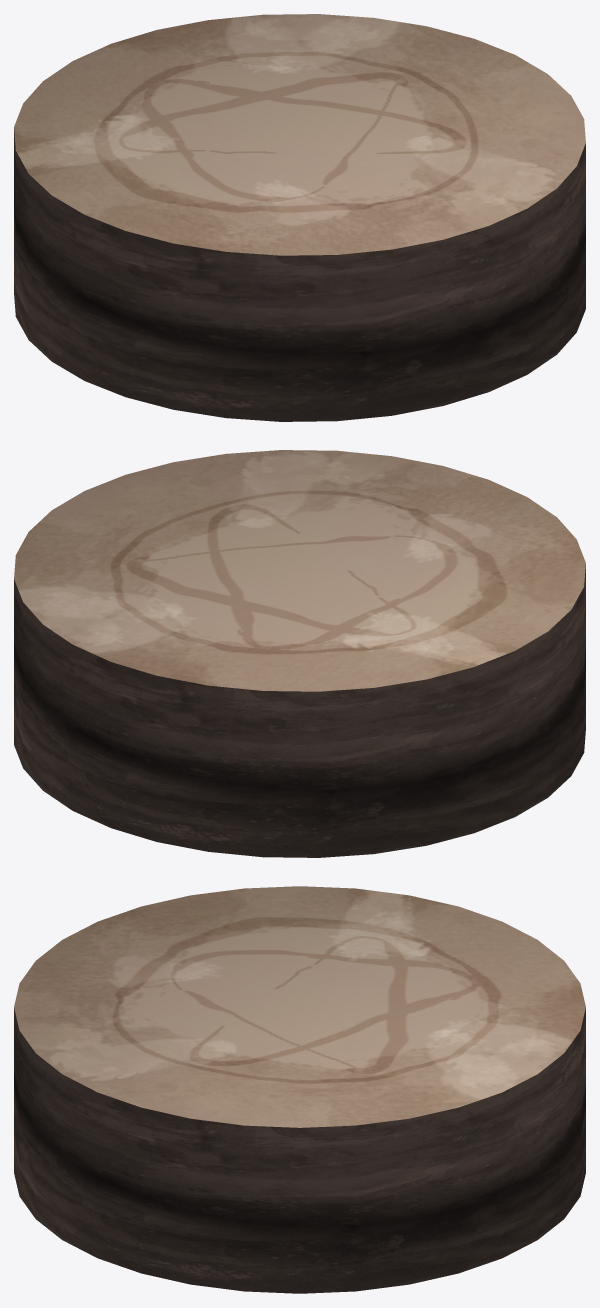
Rendered from wood.fbx.
3 renders of one model, top to bottom at view 1: azimuth 30°, elevation 25°; view 2: azimuth 150°, elevation 25°; view 3: azimuth 270°, elevation 25°, orthographic.
Parts seen in each view (by area): view 1: Cylinder; view 2: Cylinder; view 3: Cylinder.
Part boxes in pixels (<box>): Cylinder: <box>14,14,585,421</box>; Cylinder: <box>14,450,585,857</box>; Cylinder: <box>14,886,585,1293</box>.
Bounding box in the file's own units: 1 × 0.32 × 1.
